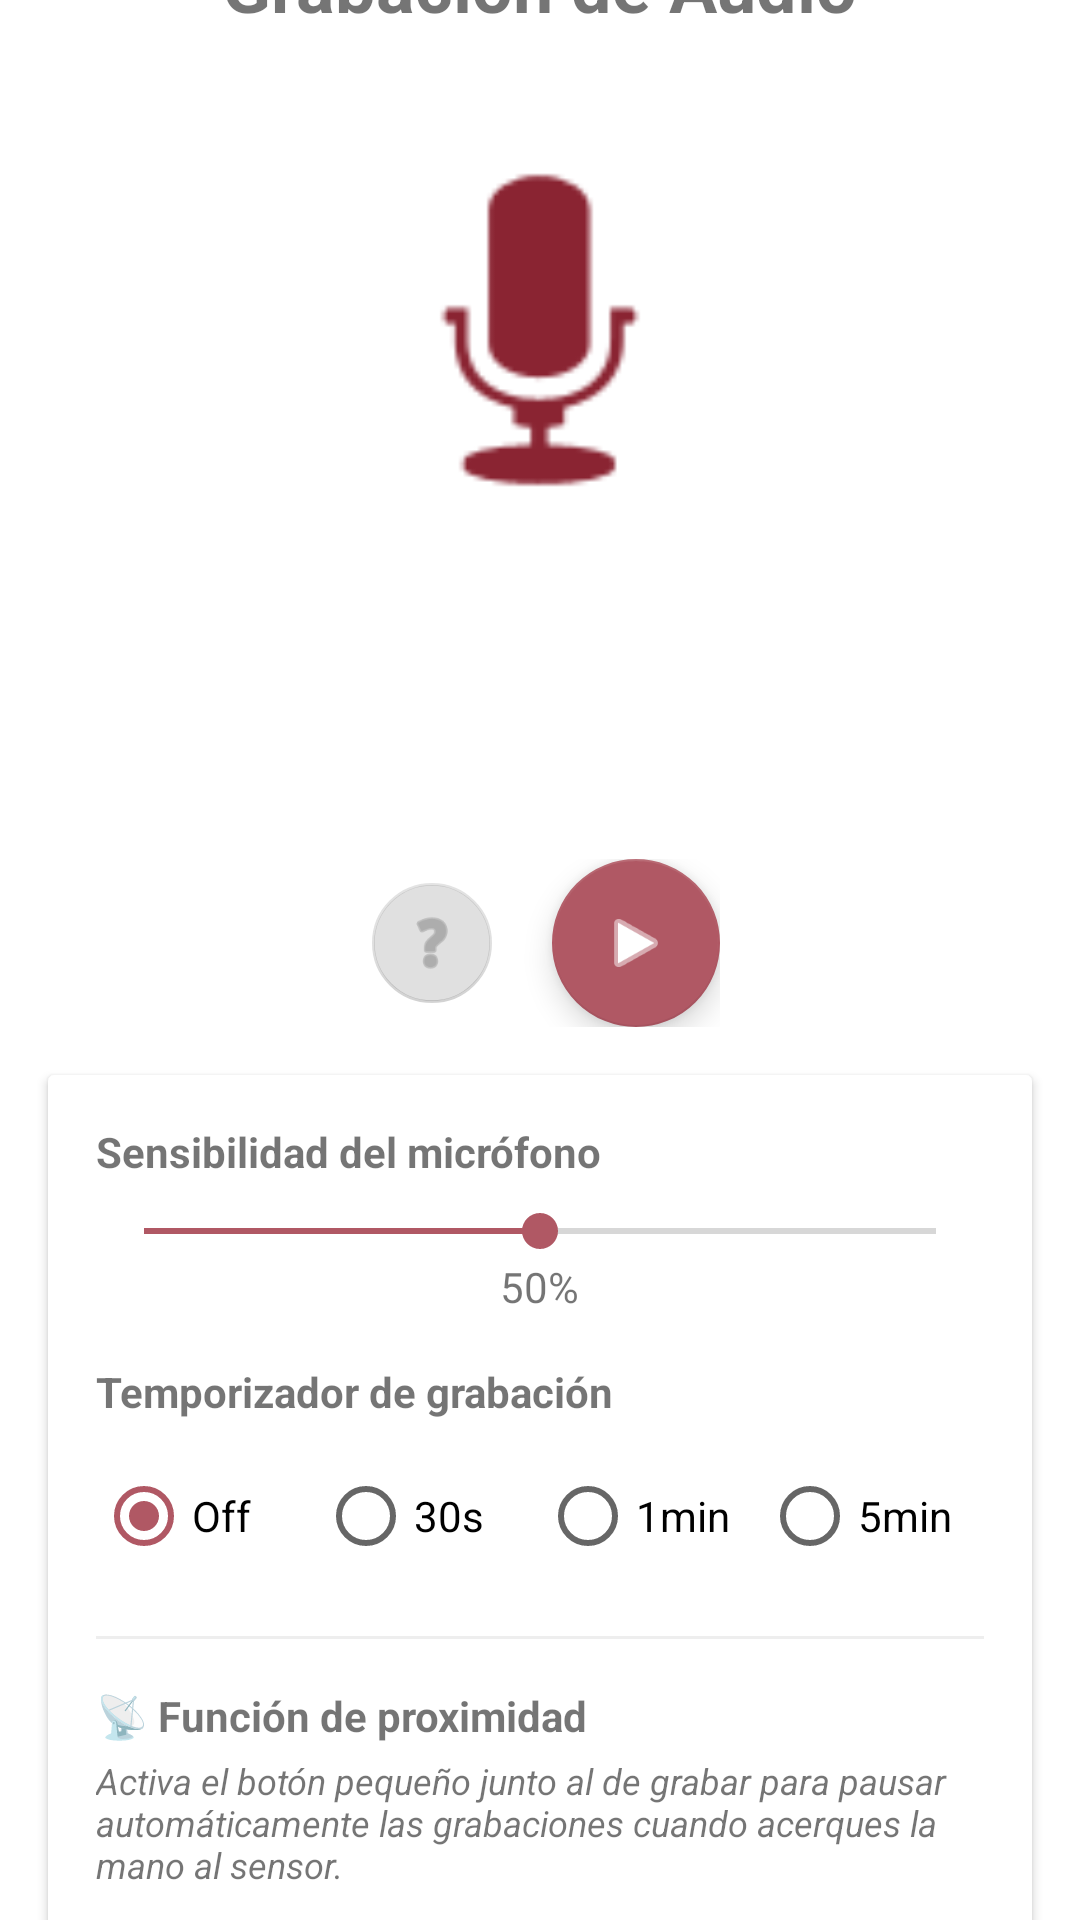

Named icons in this screenshot (1080 x 1920) and their bounding boxes, Rect(x1, y1, x2, y2):
speak now: Rect(441, 174, 639, 486)
